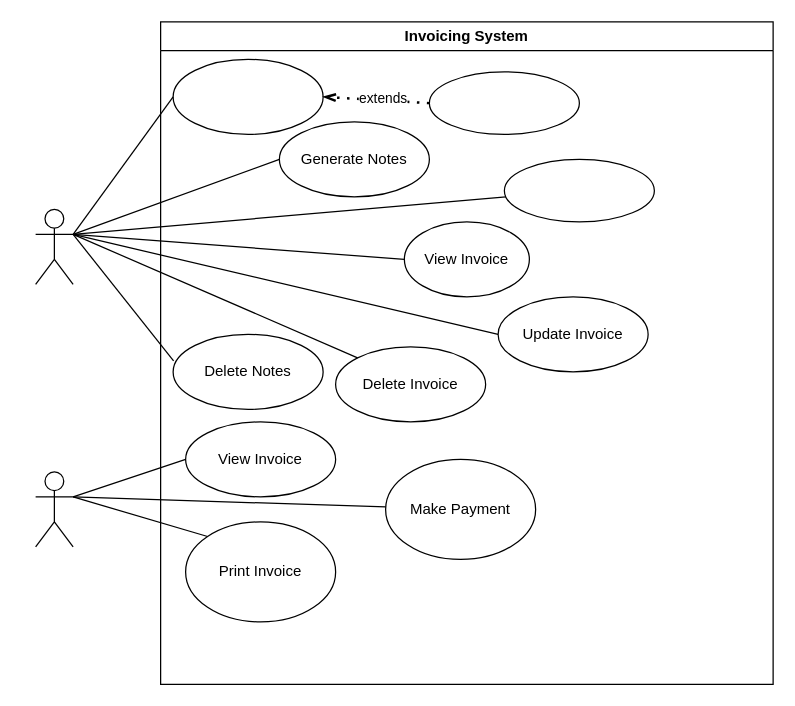
The diagram is 795 pixels wide and 706 high, and some of its shapes have lost their labels. The centre of each missing label's shape, as x and y in pixels:
"Create Customer Invoice" belongs at point 247,96.
"Create Invoice Payment Schedule" belongs at point 503,102.
"Customer" belongs at point 53,509.
"Edit Notes" belongs at point 578,190.
"Employee" belongs at point 53,246.
